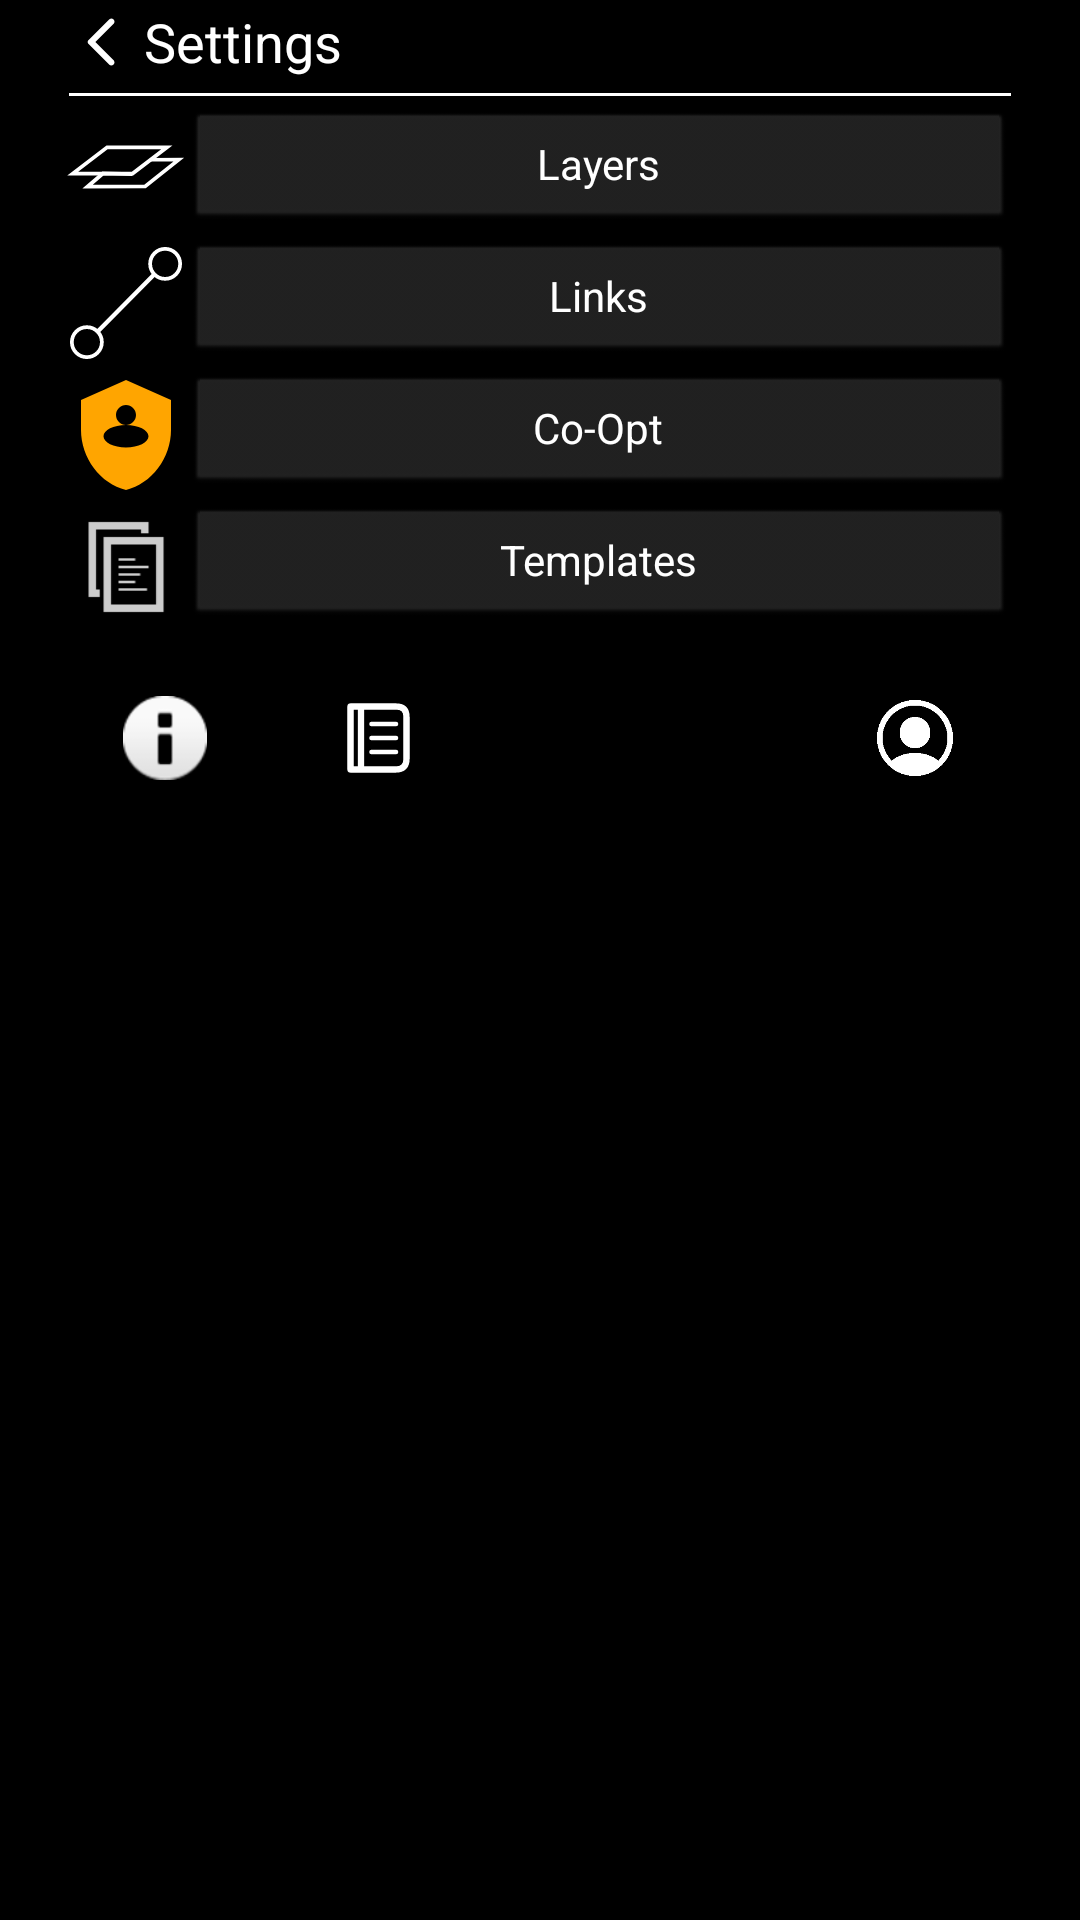

Named icons in this screenshot (1080 × 1920) and their bounding boxes, [x1, y1, x2, y2]:
account: [877, 700, 953, 776]
back arrow: [87, 18, 115, 66]
book: [347, 703, 410, 773]
info: [123, 696, 207, 780]
